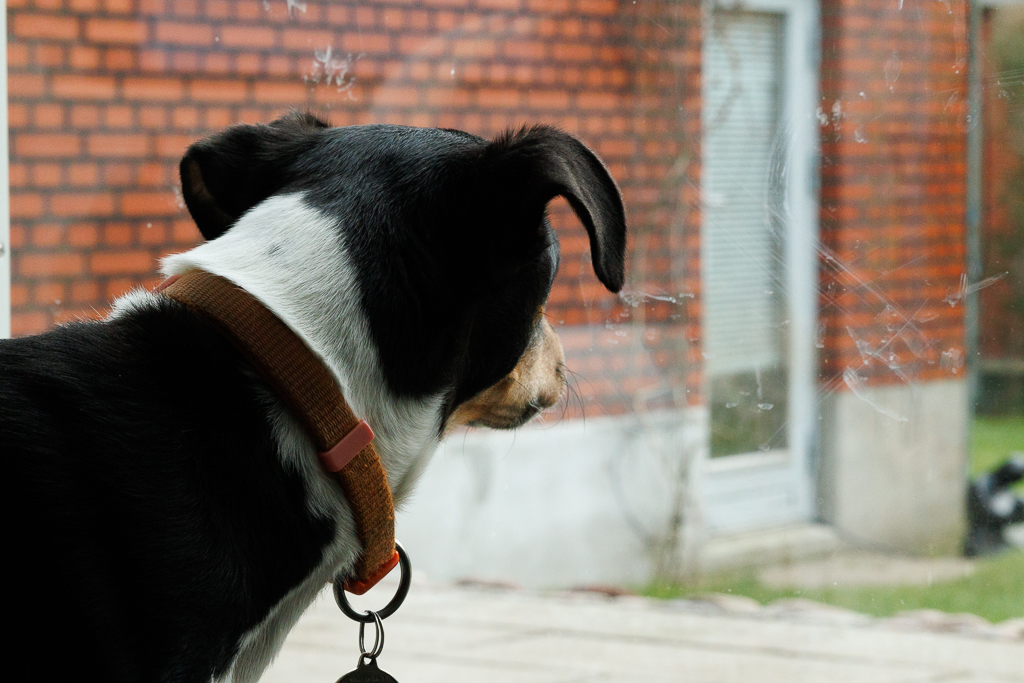Dog: (0, 99, 641, 683)
Humanoid: (954, 449, 1024, 566)
